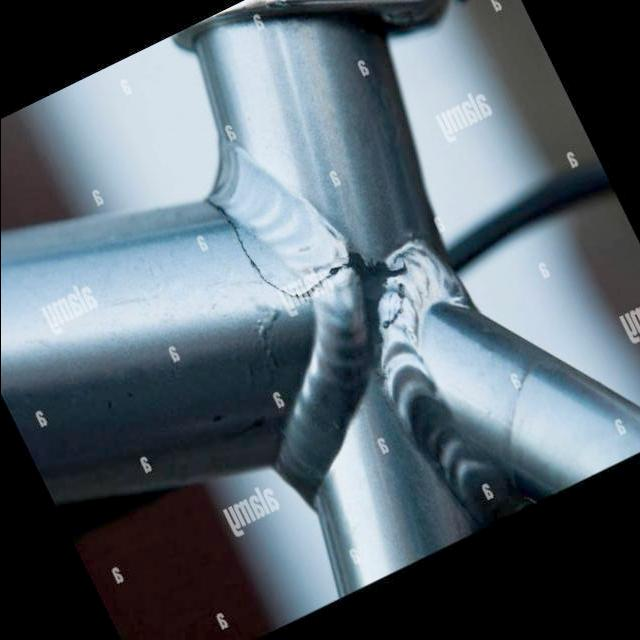defect: (195, 191, 354, 307), (378, 281, 410, 336)
